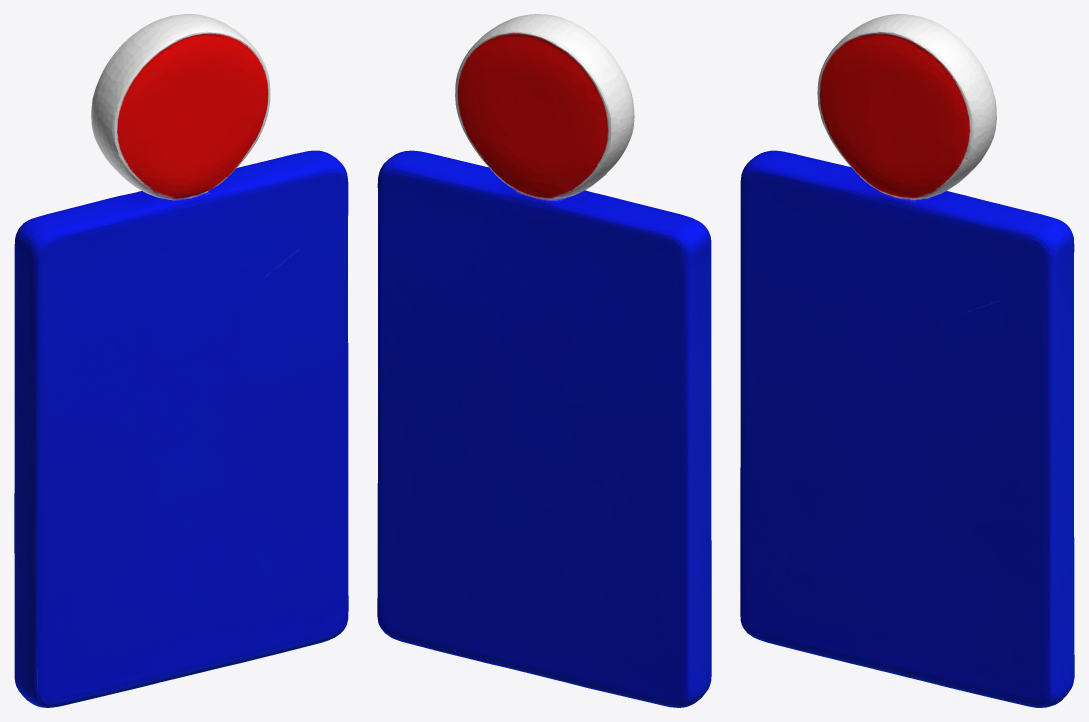
File: pipeline-test.glb
The picture shows the model from 3 angles, left to right: view 1: azimuth 30°, elevation 25°; view 2: azimuth 150°, elevation 25°; view 3: azimuth 330°, elevation 25°; orthographic projection.
Visible parts, largest first — view 1: world; view 2: world; view 3: world.
Part boxes in pixels (x1,y1,x2,y2): world: (14, 14, 348, 707); world: (377, 14, 711, 707); world: (740, 14, 1074, 707).
Bounding box in the file's own units: 0.5122 × 0.9993 × 0.0804.
Materials: 1 (1 with a texture image).
